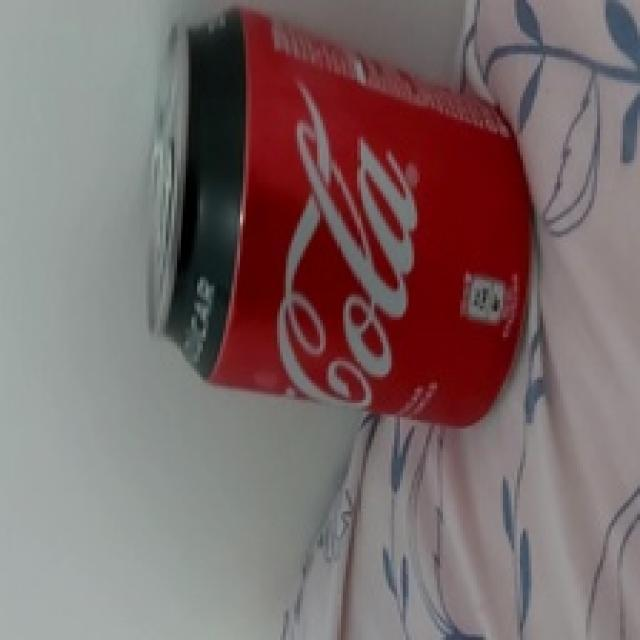recyclable: (144, 6, 538, 426)
